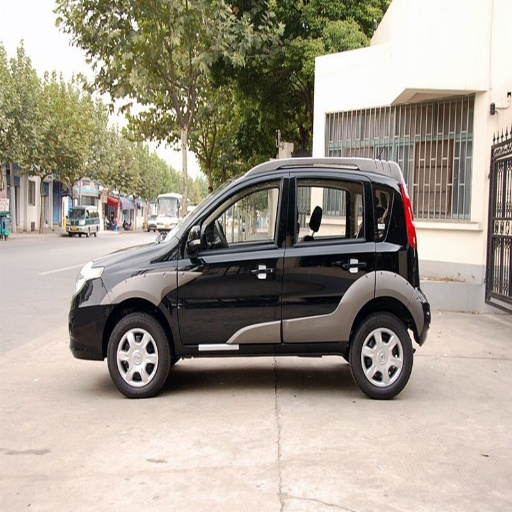front_left_door: (178, 168, 292, 351)
